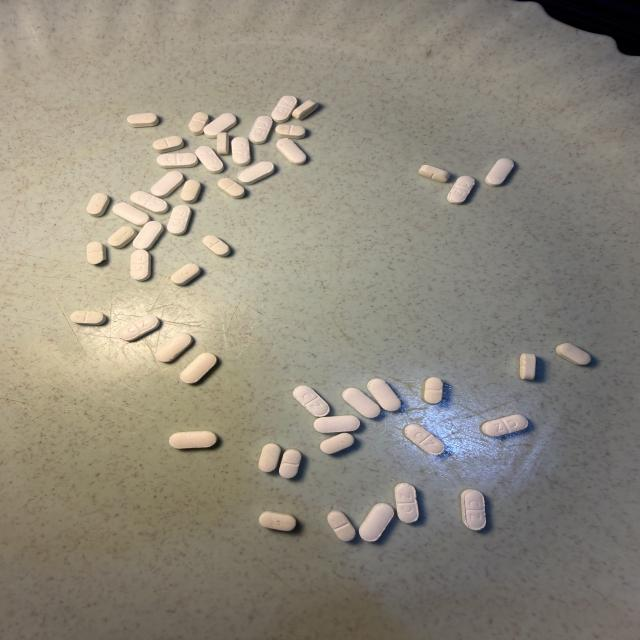pill: (359, 503, 394, 541), (404, 424, 444, 455), (293, 386, 329, 417), (180, 353, 217, 383), (343, 388, 380, 418), (367, 379, 401, 411), (156, 333, 193, 362), (119, 315, 160, 341), (480, 415, 528, 436), (461, 490, 486, 530), (395, 483, 419, 523), (133, 220, 164, 250), (327, 510, 356, 541), (150, 172, 184, 197), (130, 191, 168, 213), (238, 161, 274, 184), (113, 203, 149, 226), (314, 415, 359, 433), (169, 431, 216, 448), (485, 158, 513, 186), (277, 138, 306, 165), (556, 343, 591, 365), (204, 113, 236, 137), (447, 176, 474, 204), (195, 146, 223, 173), (259, 511, 296, 531), (167, 205, 191, 235), (320, 433, 354, 454), (272, 96, 297, 123), (130, 250, 151, 281), (249, 116, 272, 144), (171, 264, 200, 286), (108, 226, 137, 248), (259, 443, 281, 472), (279, 449, 301, 478), (156, 153, 198, 168), (231, 136, 251, 166), (421, 377, 443, 404), (418, 165, 450, 182), (218, 178, 245, 198), (203, 236, 230, 256), (152, 136, 184, 152), (87, 193, 109, 216), (70, 311, 106, 325), (292, 100, 318, 119), (181, 180, 201, 203), (189, 112, 208, 135), (275, 125, 306, 139), (127, 113, 158, 127), (87, 242, 106, 264), (520, 354, 535, 380), (217, 132, 229, 154)
